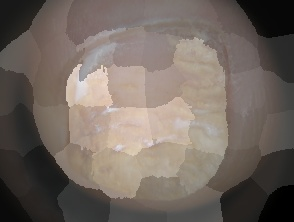Nail_psoriasis: (55, 8, 241, 206)
